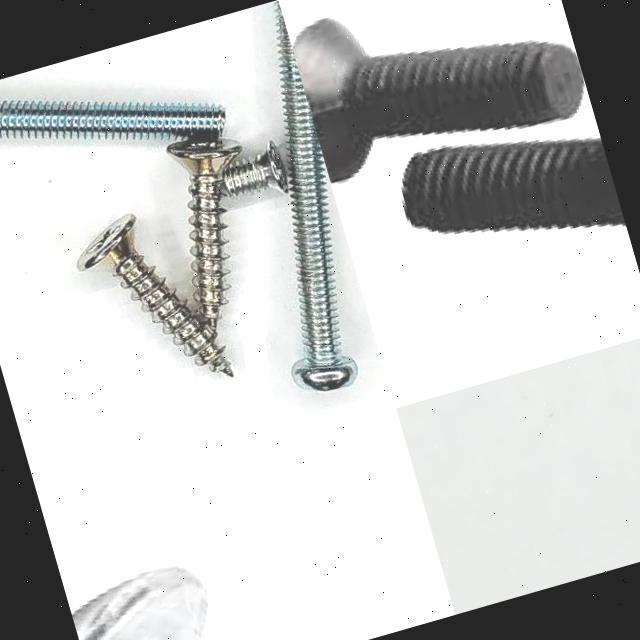Screw: (292, 16, 587, 186), (274, 0, 358, 392), (76, 214, 232, 377), (400, 137, 626, 234), (166, 140, 241, 331), (71, 565, 211, 640), (0, 101, 224, 140), (222, 140, 288, 196)
